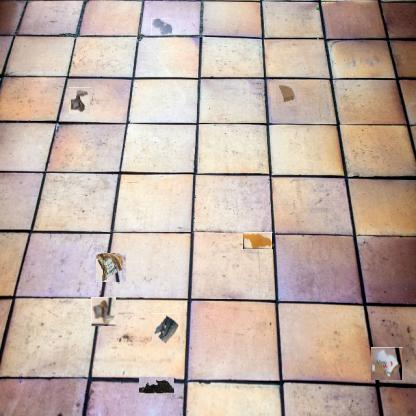dirty: (372, 347, 404, 380), (152, 313, 180, 346), (96, 254, 126, 284), (91, 297, 116, 326), (138, 376, 174, 394), (70, 87, 92, 114), (276, 84, 298, 106)
liquid: (244, 232, 274, 249), (151, 18, 172, 35)
